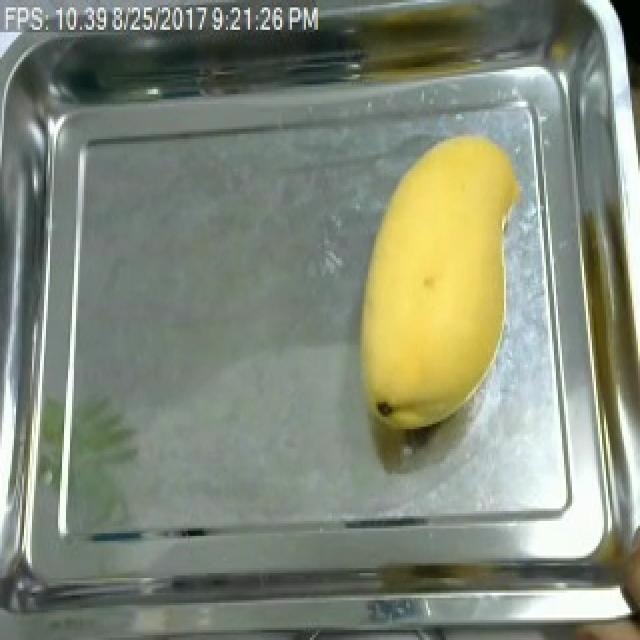fruit: (340, 116, 526, 442)
